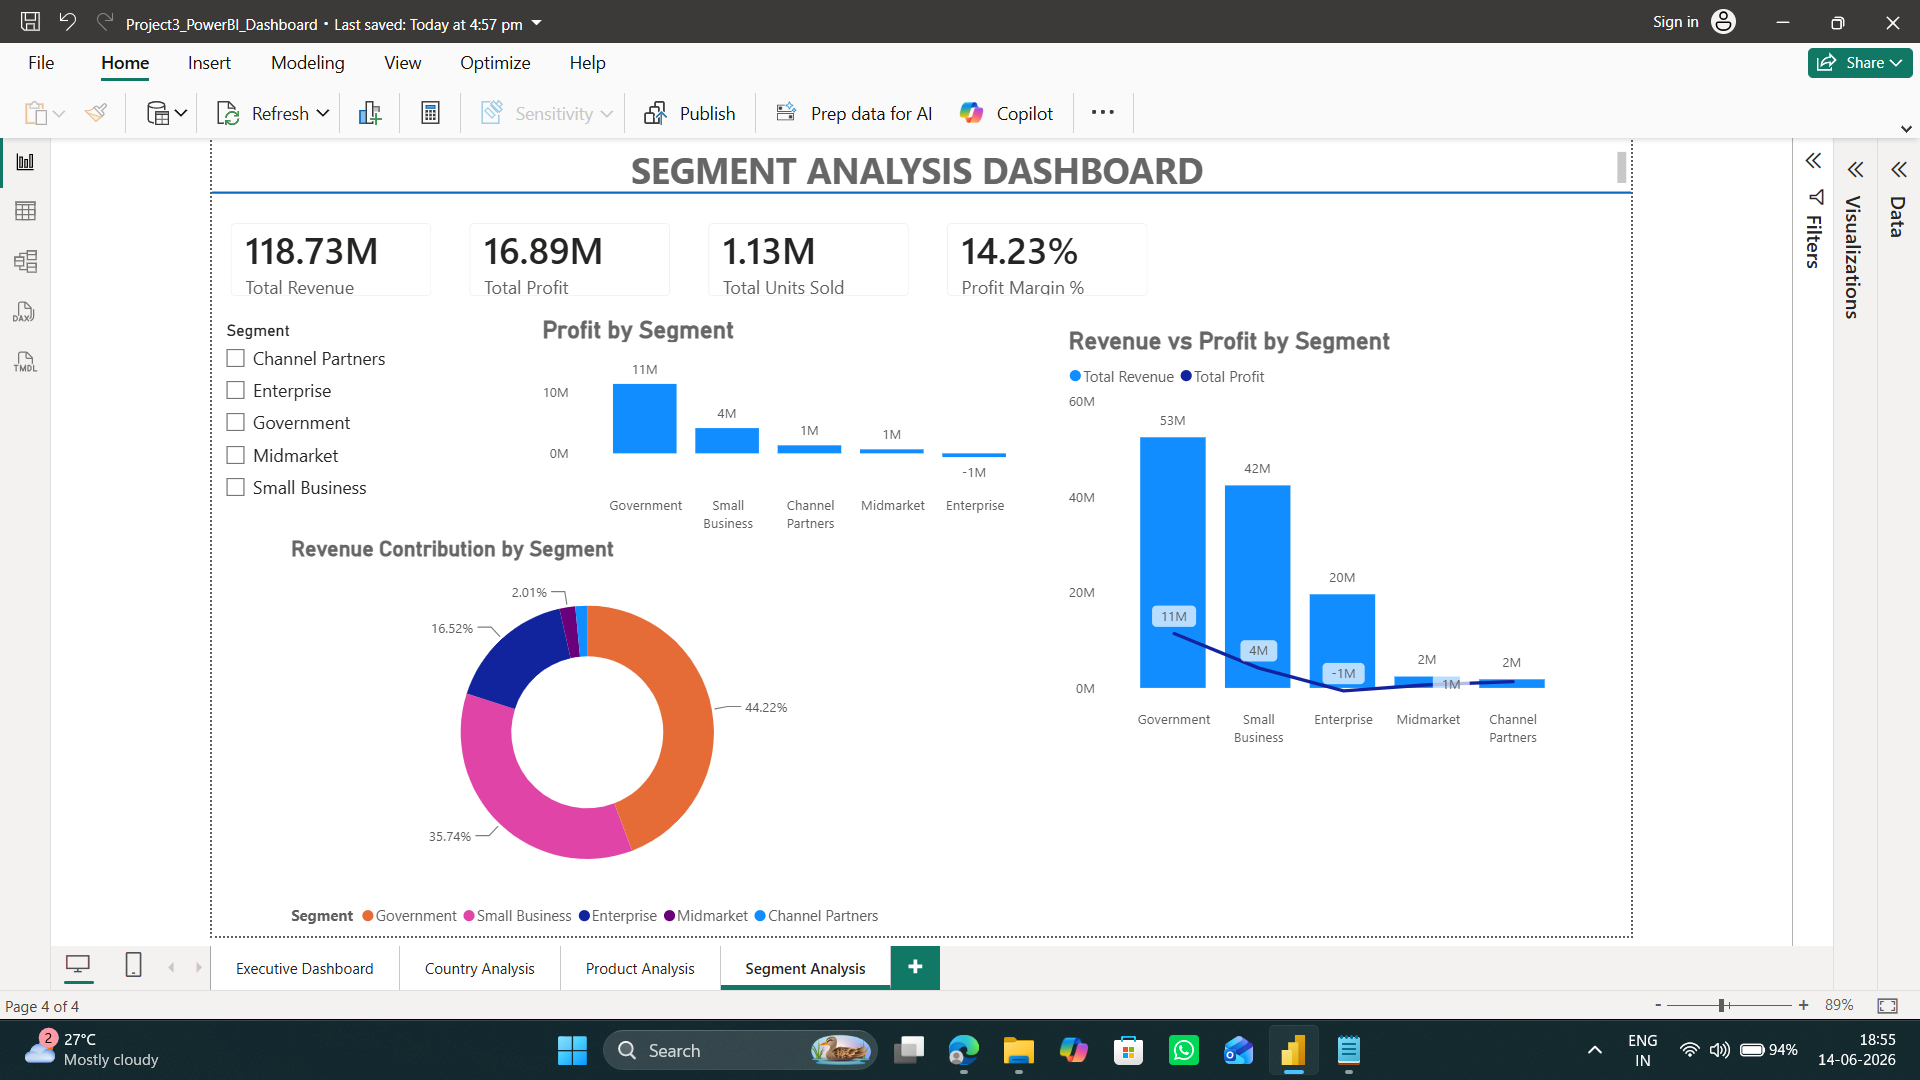

This screenshot's page, from the dashboard's own definition file:
{"tool":"powerbi","page":{"name":"Segment Analysis","canvas":[1280,720],"ordinal":3},"visuals":[{"type":"textbox","box":[0,10,1280,39],"z":0},{"type":"shape","box":[0,46.5,1280.3,6.1],"z":1000},{"type":"cardVisual","fields":{"Data":["financials.Total Revenue"]},"box":[0,59.9,215.2,100.3],"z":2000},{"type":"cardVisual","fields":{"Data":["financials.Total Profit"]},"box":[215.2,59.9,215.2,100.3],"z":3000},{"type":"cardVisual","fields":{"Data":["financials.Total Units Sold"]},"box":[430.4,59.9,215.2,100.3],"z":4000},{"type":"cardVisual","fields":{"Data":["financials.Profit Margin %"]},"box":[645.7,59.9,215.2,100.3],"z":5000},{"type":"slicer","fields":{"Values":["financials.Segment"]},"box":[0,160.2,223.8,174.9],"z":6000},{"type":"donutChart","title":"Revenue Contribution by Segment","fields":{"Category":["financials.Segment"],"Y":["financials.Total Revenue"]},"box":[66,359.5,544.2,360.7],"z":6001},{"type":"clusteredColumnChart","title":"Profit by Segment","fields":{"Category":["financials.Segment"],"Y":["financials.Total Profit"]},"box":[293.5,160.2,459.8,203],"z":6002},{"type":"lineClusteredColumnComboChart","title":"Revenue vs Profit by Segment","fields":{"Category":["financials.Segment"],"Y":["financials.Total Revenue"],"Y2":["financials.Total Profit"]},"box":[767.9,170,472,385.2],"z":6003}]}

Visuals, with their boxes on the page's 1280x720 design canvas (x1, y1, x2, y2). These are canvas units, not pixel positions in the 1920x1080 screenshot, which may show the page scaled, cropped or inside an application window:
textbox: 0,10,1280,49
shape: 0,46,1280,53
cardVisual - financials.Total Revenue: 0,60,215,160
cardVisual - financials.Total Profit: 215,60,430,160
cardVisual - financials.Total Units Sold: 430,60,646,160
cardVisual - financials.Profit Margin %: 646,60,861,160
slicer - financials.Segment: 0,160,224,335
"Revenue Contribution by Segment" donutChart: 66,360,610,720
"Profit by Segment" clusteredColumnChart: 294,160,753,363
"Revenue vs Profit by Segment" lineClusteredColumnComboChart: 768,170,1240,555
